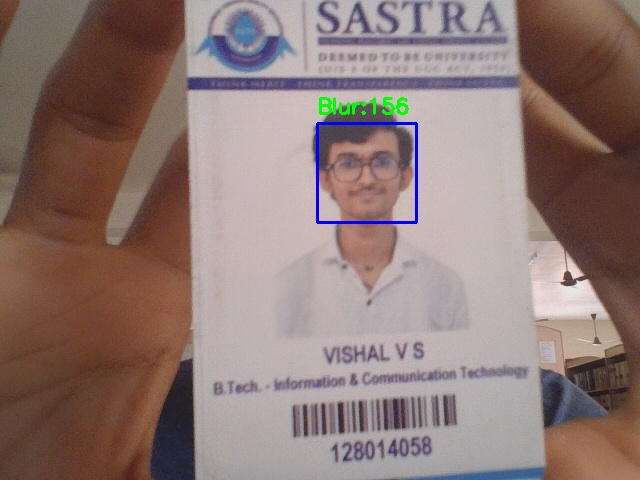fake: (317, 123, 416, 222)
